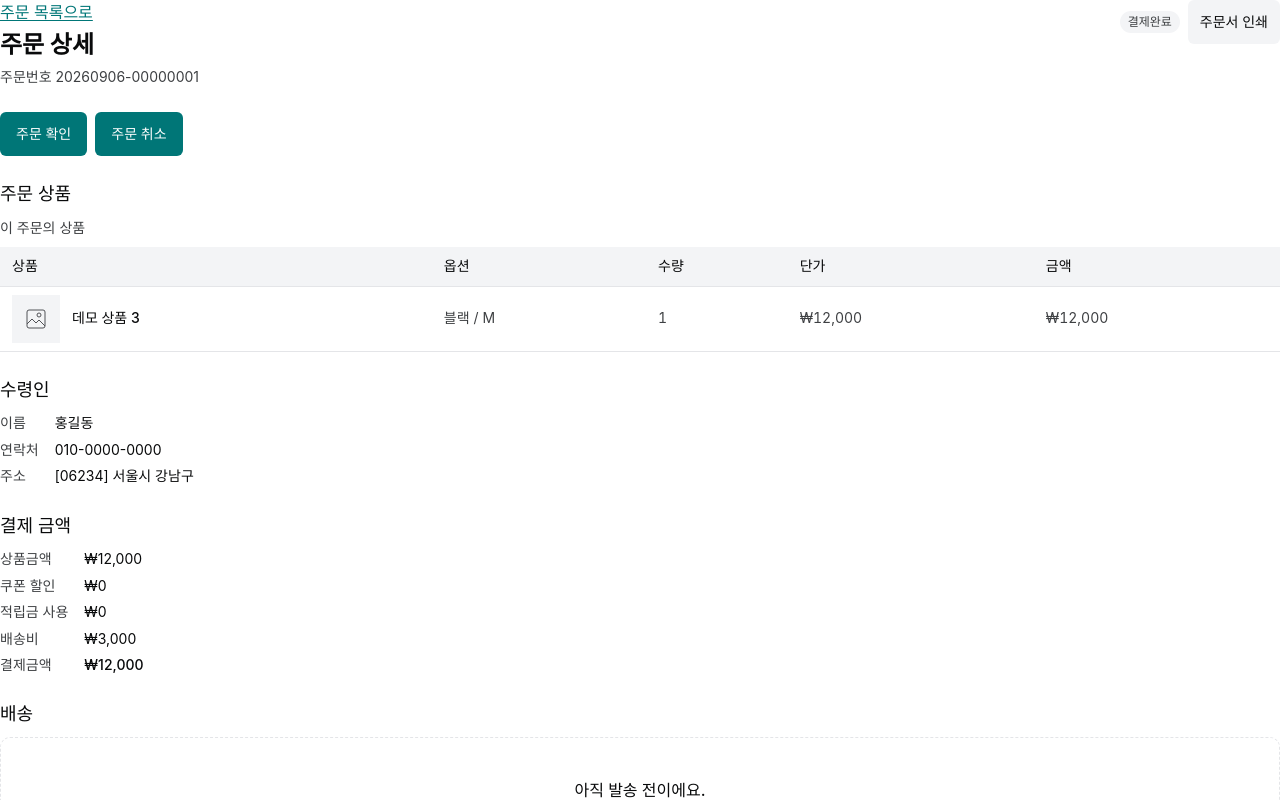
액션 버튼은 서버가 정한다 (F5) › changes the buttons when the status changes
Click the button "주문 확인". click: point(44, 134)
box: [0,112,87,156]
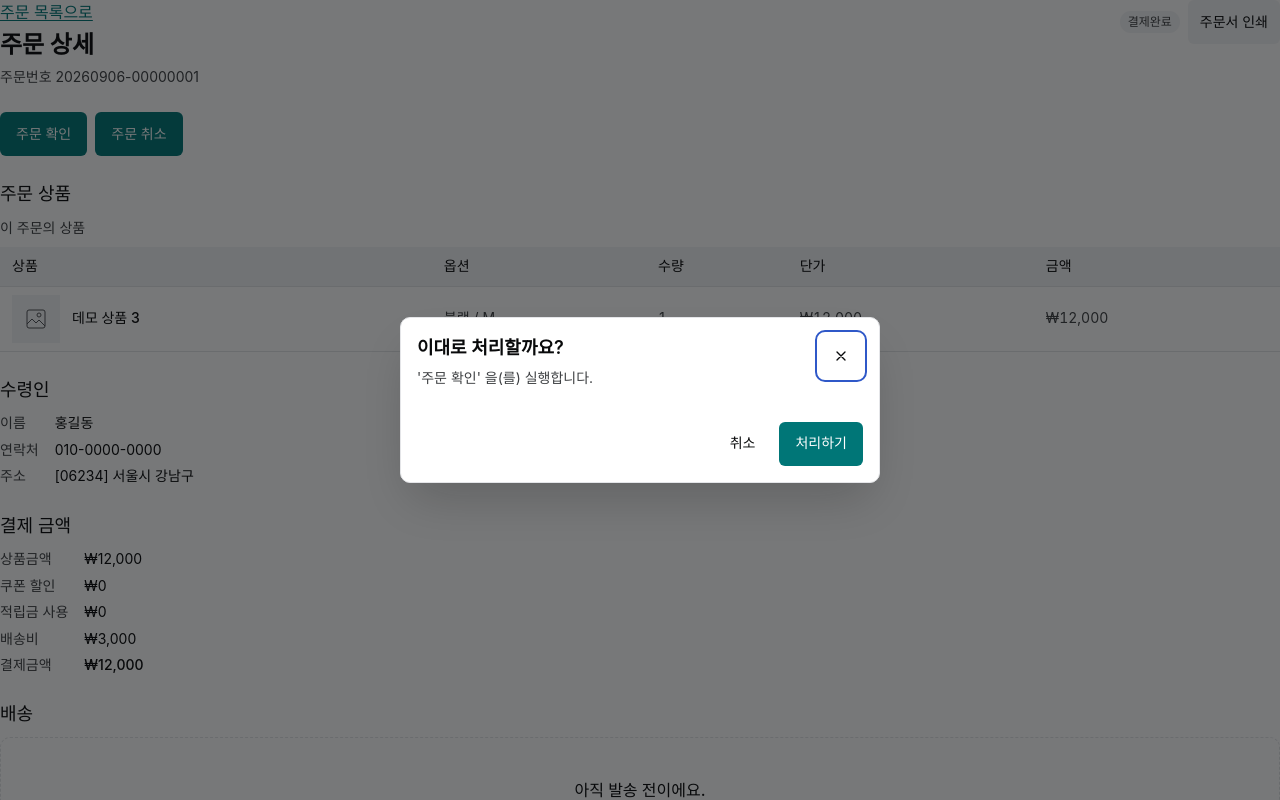
Click the button "처리하기". click: point(821, 444)
box: [780,422,863,466]
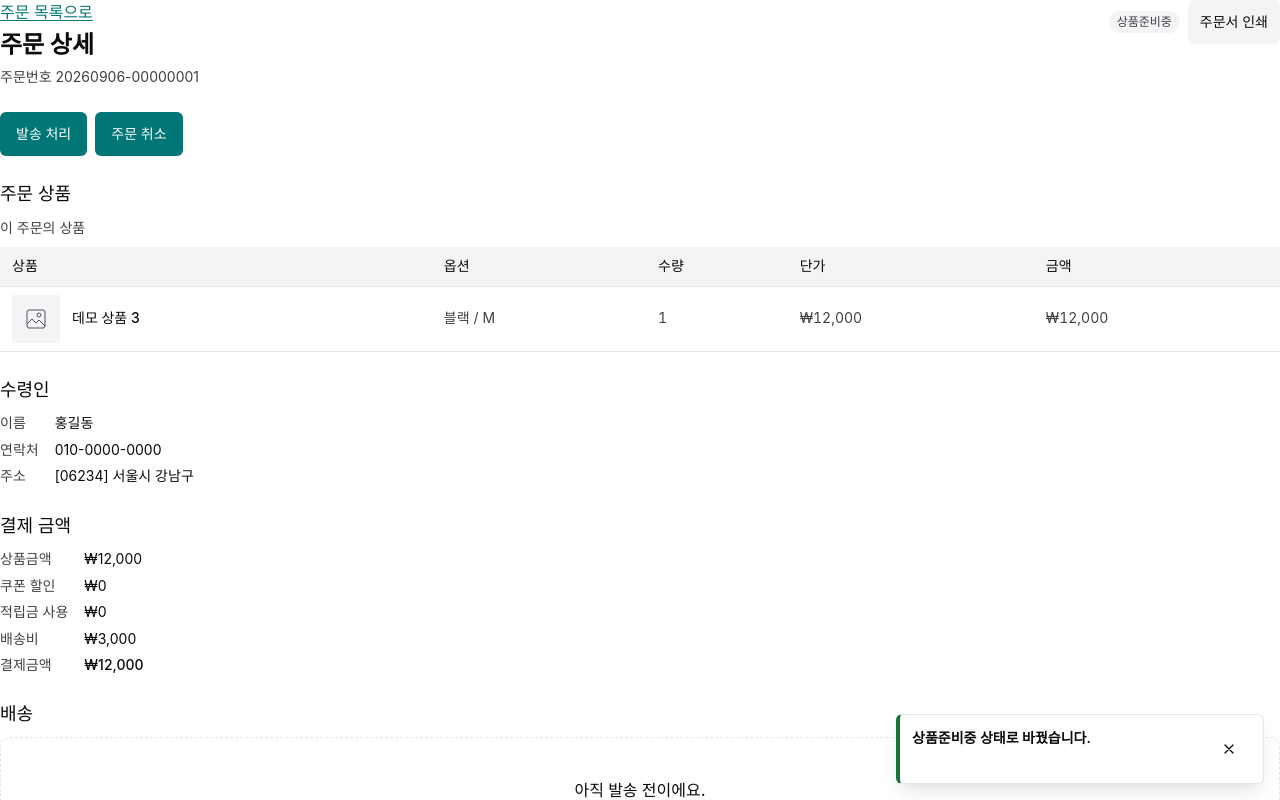
Expected: the button "발송 처리" is shown, [0,112,87,156]
